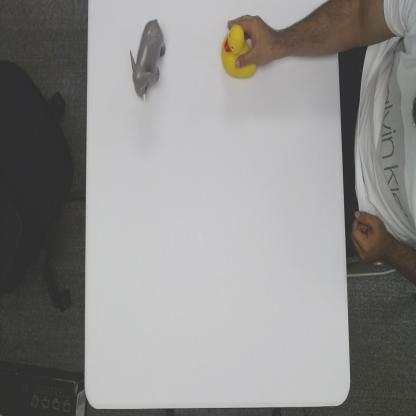Arm: (284, 2, 338, 64)
Duck: (221, 22, 257, 81)
Elephant: (129, 18, 167, 101)
Hand: (228, 12, 283, 70)
